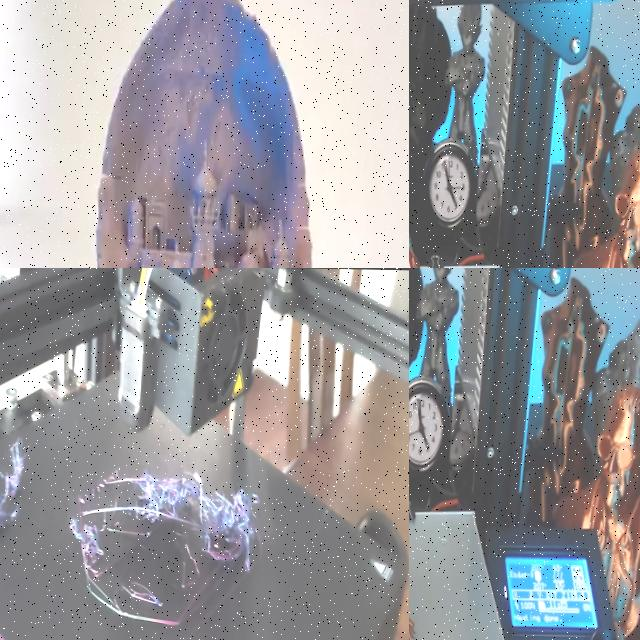spaghetti: (136, 458, 268, 578), (0, 422, 37, 599), (59, 494, 107, 586), (121, 568, 168, 623)
